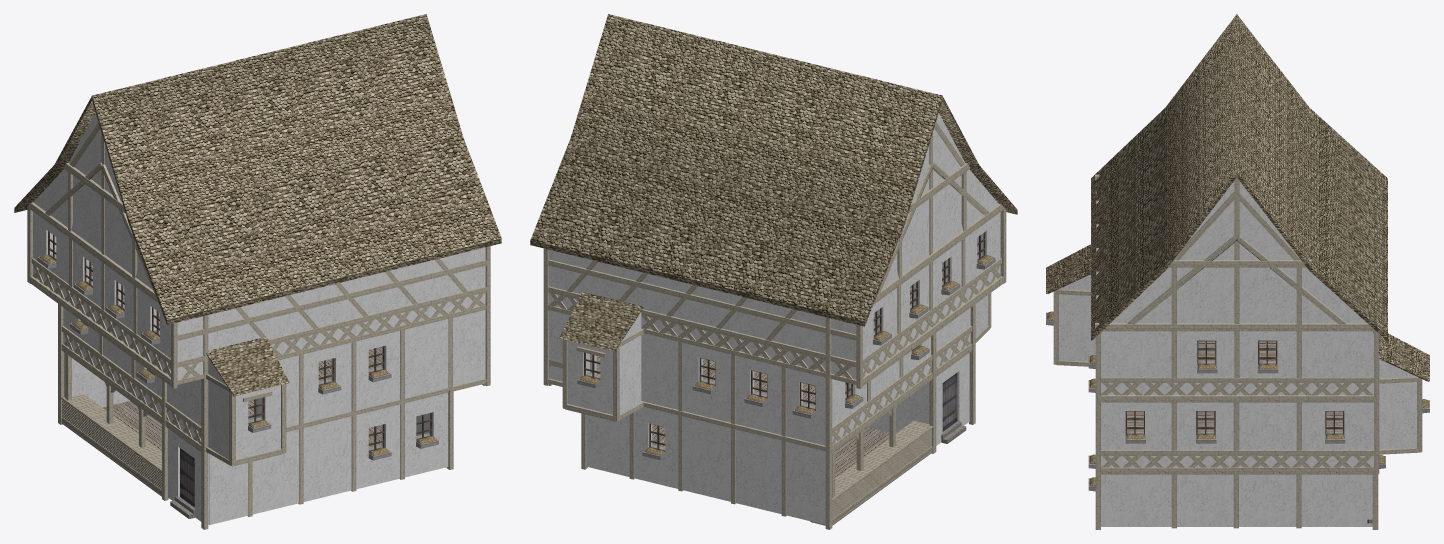
Rendered from MerchantsHouse.obj.
The picture shows the model from 3 angles, left to right: view 1: azimuth 30°, elevation 25°; view 2: azimuth 150°, elevation 25°; view 3: azimuth 270°, elevation 25°; orthographic projection. The views are drawn at different scales.
Parts seen in each view (by area): view 1: Box4073; view 2: Box4073; view 3: Box4073.
Part boxes in pixels (x1,y1,x2,y2): Box4073: (14,14,501,529); Box4073: (530,14,1017,529); Box4073: (1046,14,1429,529).
Size of what is drawn, in the model's own units: 13.87 by 15.48 by 14.2.
9 materials, 9 textured.
